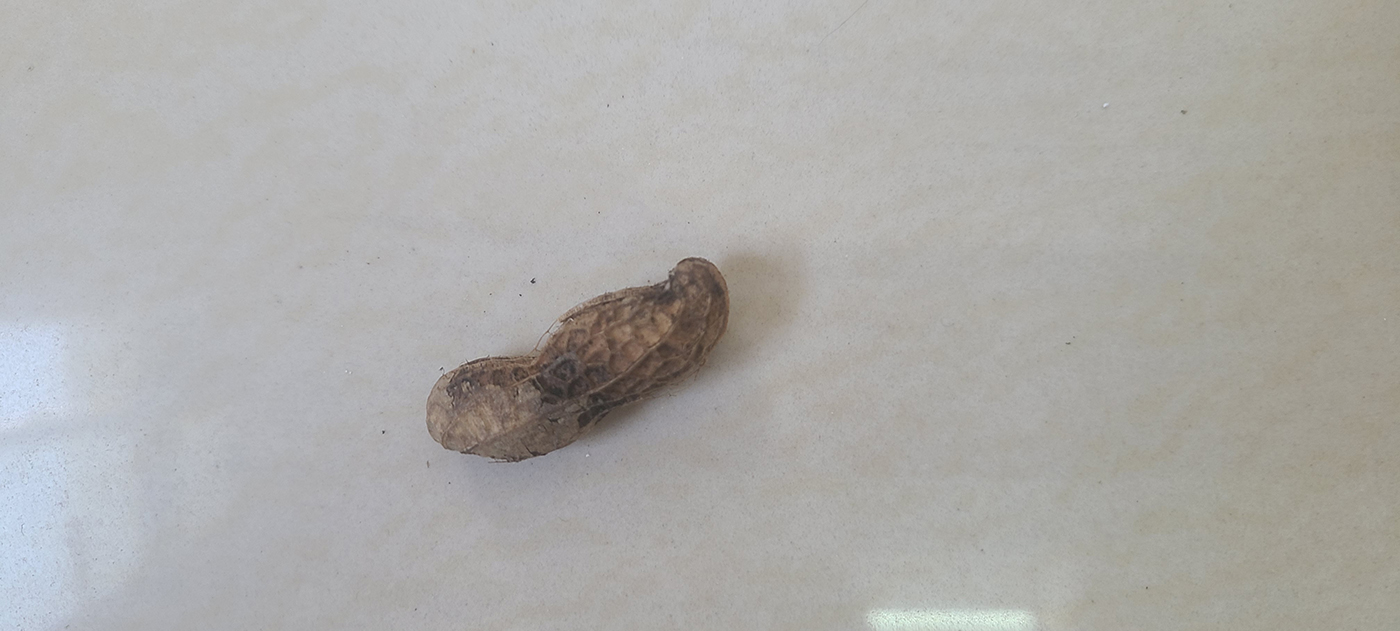l: (432, 254, 731, 465)
